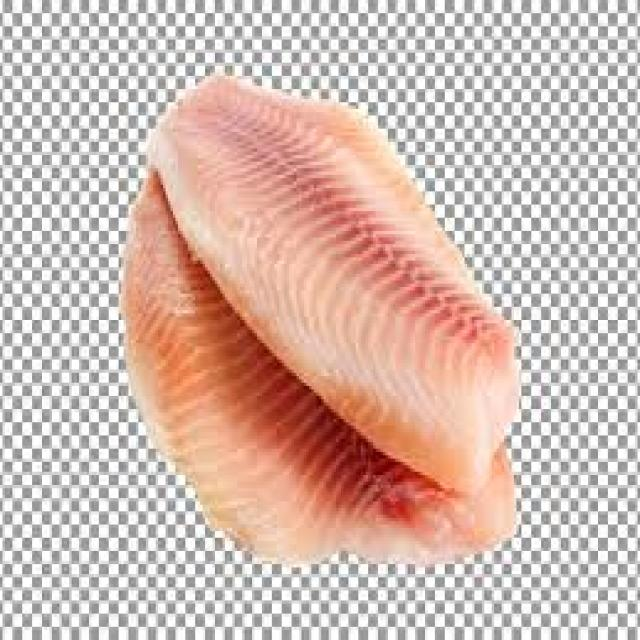Fish: (152, 71, 525, 491), (122, 196, 518, 564)
